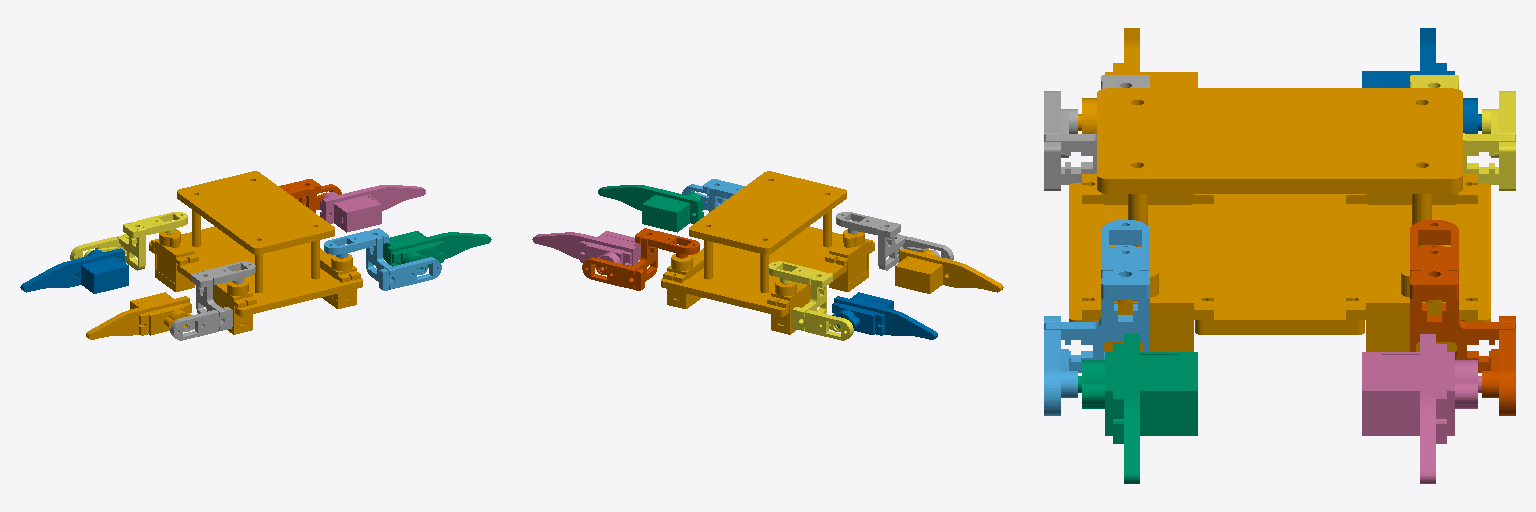
robot.urdf — Acebott_Spider_URDF:
<?xml version='1.0' encoding='utf-8'?>
<robot name="Acebott_Spider_URDF">
    <link name="Body">
        <inertial>
            <origin xyz="-0.09893936727834697 -0.09172392482990159 0.008946823496255288" rpy="0.0 0.0 0.0" />
            <mass value="0.08199535557972024" />
            <inertia ixx="9.49581199758884e-05" iyy="7.208979598154718e-05" izz="0.00012865767930647165" ixy="2.726693653851142e-12" iyz="8.124631609846e-15" ixz="8.776982504503372e-15" />
        </inertial>
        <visual name="Body_visual">
            <origin xyz="0.0 0.0 0.0" rpy="0.0 0.0 0.0" />
            <geometry>
                <mesh filename="meshes/Body.stl" scale="0.001 0.001 0.001" />
            </geometry>
        </visual>
        <collision name="Body_collision">
            <origin xyz="0.0 0.0 0.0" rpy="0.0 0.0 0.0" />
            <geometry>
                <mesh filename="meshes/Body.stl" scale="0.001 0.001 0.001" />
            </geometry>
        </collision>
    </link>
    <link name="Hip_HR">
        <inertial>
            <origin xyz="0.02125000270970605 0.0074247812089937425 0.0032419535209816308" rpy="0.0 -0.0 0.0" />
            <mass value="0.004533521000884564" />
            <inertia ixx="7.034457005123957e-07" iyy="1.1507372874024822e-06" izz="1.15058598772857e-06" ixy="-3.3173718877997107e-07" iyz="-2.51378505530601e-07" ixz="-3.320713292271822e-07" />
        </inertial>
        <visual name="Hip_HR_visual">
            <origin xyz="0.0653393700000001 -0.12967392 0.014191503999999758" rpy="-3.1415926535897913 -0.0 0.0" />
            <geometry>
                <mesh filename="meshes/Hip_HR.stl" scale="0.001 0.001 0.001" />
            </geometry>
        </visual>
        <collision name="Hip_HR_collision">
            <origin xyz="0.0653393700000001 -0.12967392 0.014191503999999758" rpy="-3.1415926535897913 -0.0 0.0" />
            <geometry>
                <mesh filename="meshes/Hip_HR.stl" scale="0.001 0.001 0.001" />
            </geometry>
        </collision>
    </link>
    <link name="Leg_HR">
        <inertial>
            <origin xyz="0.008736659310475159 -0.00034664721693226155 0.015624315795401848" rpy="0.0 -0.0 0.0" />
            <mass value="0.009713411899903171" />
            <inertia ixx="5.98223690582235e-07" iyy="1.976798624633082e-06" izz="1.630611419272467e-06" ixy="2.0516984113919095e-08" iyz="-8.162992944578415e-09" ixz="3.9205420868662616e-08" />
        </inertial>
        <visual name="Leg_HR_visual">
            <origin xyz="0.022839369999999443 0.003491503999999491 0.14135658" rpy="1.5707963267949 -0.0 0.0" />
            <geometry>
                <mesh filename="meshes/Leg_HR.stl" scale="0.001 0.001 0.001" />
            </geometry>
        </visual>
        <collision name="Leg_HR_collision">
            <origin xyz="0.022839369999999443 0.003491503999999491 0.14135658" rpy="1.5707963267949 -0.0 0.0" />
            <geometry>
                <mesh filename="meshes/Leg_HR.stl" scale="0.001 0.001 0.001" />
            </geometry>
        </collision>
    </link>
    <link name="Hip_VL">
        <inertial>
            <origin xyz="-0.021249997290224185 -0.0074247715270273585 0.0032419535209814066" rpy="0.0 -0.0 0.0" />
            <mass value="0.004533521000884648" />
            <inertia ixx="7.034457004552396e-07" iyy="1.1507372874747252e-06" izz="1.15058598786068e-06" ixy="-3.3173718877987646e-07" iyz="2.513785055304499e-07" ixz="3.320713292254234e-07" />
        </inertial>
        <visual name="Hip_VL_visual">
            <origin xyz="0.13253937000000002 -0.0537739199999998 0.014191504000000082" rpy="3.1415926535897922 -0.0 0.0" />
            <geometry>
                <mesh filename="meshes/Hip_VL.stl" scale="0.001 0.001 0.001" />
            </geometry>
        </visual>
        <collision name="Hip_VL_collision">
            <origin xyz="0.13253937000000002 -0.0537739199999998 0.014191504000000082" rpy="3.1415926535897922 -0.0 0.0" />
            <geometry>
                <mesh filename="meshes/Hip_VL.stl" scale="0.001 0.001 0.001" />
            </geometry>
        </collision>
    </link>
    <link name="Leg_VL">
        <inertial>
            <origin xyz="-0.008736653840611055 0.0003466472169322682 0.015624315430607601" rpy="0.0 -0.0 0.0" />
            <mass value="0.009713411899903254" />
            <inertia ixx="5.982236596912551e-07" iyy="1.9767986768641694e-06" izz="1.6306115023945891e-06" ixy="2.051698599421654e-08" iyz="8.162991201413366e-09" ixz="-3.920539899910423e-08" />
        </inertial>
        <visual name="Leg_VL_visual">
            <origin xyz="0.17503937000000122 -0.0034915040000001118 -0.042091269999999695" rpy="-1.5707963267948994 -0.0 0.0" />
            <geometry>
                <mesh filename="meshes/Leg_VL.stl" scale="0.001 0.001 0.001" />
            </geometry>
        </visual>
        <collision name="Leg_VL_collision">
            <origin xyz="0.17503937000000122 -0.0034915040000001118 -0.042091269999999695" rpy="-1.5707963267948994 -0.0 0.0" />
            <geometry>
                <mesh filename="meshes/Leg_VL.stl" scale="0.001 0.001 0.001" />
            </geometry>
        </collision>
    </link>
    <link name="Hip_VR">
        <inertial>
            <origin xyz="0.021264245482194515 -0.007424762173149944 0.003247422353883134" rpy="0.0 -0.0 0.0" />
            <mass value="0.004533497206662651" />
            <inertia ixx="7.037160970528777e-07" iyy="1.1510120554577788e-06" izz="1.1505860402810898e-06" ixy="3.31528390240217e-07" iyz="2.5147873424627667e-07" ixz="-3.3243970524026796e-07" />
        </inertial>
        <visual name="Hip_VR_visual">
            <origin xyz="0.06533937 -0.05377392000000002 0.014199999999999977" rpy="-3.1415926535897927 -0.0 0.0" />
            <geometry>
                <mesh filename="meshes/Hip_VR.stl" scale="0.001 0.001 0.001" />
            </geometry>
        </visual>
        <collision name="Hip_VR_collision">
            <origin xyz="0.06533937 -0.05377392000000002 0.014199999999999977" rpy="-3.1415926535897927 -0.0 0.0" />
            <geometry>
                <mesh filename="meshes/Hip_VR.stl" scale="0.001 0.001 0.001" />
            </geometry>
        </collision>
    </link>
    <link name="Leg_VR">
        <inertial>
            <origin xyz="0.008736659310472834 0.00034665509828700204 0.015624315430609173" rpy="0.0 -0.0 0.0" />
            <mass value="0.009713411899903397" />
            <inertia ixx="5.98223633553072e-07" iyy="1.9767985937420955e-06" izz="1.6306113931343143e-06" ixy="-2.0516677225808784e-08" iyz="8.163047333496193e-09" ixz="3.9205427273677146e-08" />
        </inertial>
        <visual name="Leg_VR_visual">
            <origin xyz="0.022839370000000553 -0.0034914999999996884 -0.04209127000000002" rpy="-1.5707963267948892 -0.0 0.0" />
            <geometry>
                <mesh filename="meshes/Leg_VR.stl" scale="0.001 0.001 0.001" />
            </geometry>
        </visual>
        <collision name="Leg_VR_collision">
            <origin xyz="0.022839370000000553 -0.0034914999999996884 -0.04209127000000002" rpy="-1.5707963267948892 -0.0 0.0" />
            <geometry>
                <mesh filename="meshes/Leg_VR.stl" scale="0.001 0.001 0.001" />
            </geometry>
        </collision>
    </link>
    <link name="Hip_HL">
        <inertial>
            <origin xyz="-0.021268485926847092 0.007424783870094043 0.0032474308446560273" rpy="0.0 -0.0 0.0" />
            <mass value="0.004533502365832292" />
            <inertia ixx="7.037170149500819e-07" iyy="1.1514694098579243e-06" izz="1.1510436407128049e-06" ixy="3.3172085519662725e-07" iyz="-2.514791406501123e-07" ixz="3.325833205591262e-07" />
        </inertial>
        <visual name="Hip_HL_visual">
            <origin xyz="0.13253937000000002 -0.12967392 0.014199999999999956" rpy="-3.141592653589793 -0.0 0.0" />
            <geometry>
                <mesh filename="meshes/Hip_HL.stl" scale="0.001 0.001 0.001" />
            </geometry>
        </visual>
        <collision name="Hip_HL_collision">
            <origin xyz="0.13253937000000002 -0.12967392 0.014199999999999956" rpy="-3.141592653589793 -0.0 0.0" />
            <geometry>
                <mesh filename="meshes/Hip_HL.stl" scale="0.001 0.001 0.001" />
            </geometry>
        </collision>
    </link>
    <link name="Leg_HL">
        <inertial>
            <origin xyz="-0.008736656485766013 -0.0003466550982874311 0.015624315795401831" rpy="0.0 -0.0 0.0" />
            <mass value="0.009713411899903402" />
            <inertia ixx="5.982236644441535e-07" iyy="1.976798707766209e-06" izz="1.6306114762672662e-06" ixy="-2.0516679106194272e-08" iyz="-8.163049076679687e-09" ixz="-3.92054824680009e-08" />
        </inertial>
        <visual name="Leg_HL_visual">
            <origin xyz="0.1750512399999999 0.0034914999999906718 0.14135658000000023" rpy="1.5707963267949625 -0.0 0.0" />
            <geometry>
                <mesh filename="meshes/Leg_HL.stl" scale="0.001 0.001 0.001" />
            </geometry>
        </visual>
        <collision name="Leg_HL_collision">
            <origin xyz="0.1750512399999999 0.0034914999999906718 0.14135658000000023" rpy="1.5707963267949625 -0.0 0.0" />
            <geometry>
                <mesh filename="meshes/Leg_HL.stl" scale="0.001 0.001 0.001" />
            </geometry>
        </collision>
    </link>
    <joint name="Body_Hip_HL" type="revolute">
        <origin xyz="-0.13253937000000002 -0.12967392 0.014199999999999999" rpy="3.141592653589793 -0.0 0.0" />
        <parent link="Body" />
        <child link="Hip_HL" />
        <axis xyz="0.0 -3.43908929112419e-16 1.0" />
        <limit lower="-0.872665" upper="0.872665" effort="1000000" velocity="1000000" />
    </joint>
    <joint name="Hip_HL_Leg_HL" type="revolute">
        <origin xyz="-0.04251186999999998 0.011682659999999992 0.010708500000000003" rpy="1.570796326794831 -0.0 0.0" />
        <parent link="Hip_HL" />
        <child link="Leg_HL" />
        <axis xyz="0.0 -6.59928123750708e-14 1.0" />
        <limit lower="-1.570796" upper="0.0" effort="1000000" velocity="1000000" />
    </joint>
    <joint name="Body_Hip_VL" type="revolute">
        <origin xyz="-0.13253937000000002 -0.05377392 0.014199999999999999" rpy="3.1415926535897927 -0.0 0.0" />
        <parent link="Body" />
        <child link="Hip_VL" />
        <axis xyz="-0.0 -4.21198963906871e-16 1.0" />
        <limit lower="-0.872665" upper="0.872665" effort="1000000" velocity="1000000" />
    </joint>
    <joint name="Hip_VL_Leg_VL" type="revolute">
        <origin xyz="-0.0425 -0.011682650000000017 0.010699999999999994" rpy="-1.5707963267948861 -0.0 0.0" />
        <parent link="Hip_VL" />
        <child link="Leg_VL" />
        <axis xyz="-0.0 1.007645192987434e-14 1.0" />
        <limit lower="-0.0" upper="1.570796" effort="1000000" velocity="1000000" />
    </joint>
    <joint name="Body_Hip_VR" type="revolute">
        <origin xyz="-0.06533937 -0.05377392 0.014199999999999999" rpy="3.1415926535897927 -0.0 0.0" />
        <parent link="Body" />
        <child link="Hip_VR" />
        <axis xyz="-0.0 -4.06769447268998e-16 1.0" />
        <limit lower="-0.872665" upper="0.872665" effort="1000000" velocity="1000000" />
    </joint>
    <joint name="Hip_VR_Leg_VR" type="revolute">
        <origin xyz="0.0425 -0.011682650000000017 0.010708499999999994" rpy="-1.5707963267949037 -0.0 0.0" />
        <parent link="Hip_VR" />
        <child link="Leg_VR" />
        <axis xyz="0.0 -7.41533677581482e-15 1.0" />
        <limit lower="-1.570796" upper="0.0" effort="1000000" velocity="1000000" />
    </joint>
    <joint name="Body_Hip_HR" type="revolute">
        <origin xyz="-0.06533937 -0.12967392 0.014199999999999999" rpy="3.141592653589793 -0.0 0.0" />
        <parent link="Body" />
        <child link="Hip_HR" />
        <axis xyz="0.0 -3.43908929112402e-16 1.0" />
        <limit lower="-0.872665" upper="0.872665" effort="1000000" velocity="1000000" />
    </joint>
    <joint name="Hip_HR_Leg_HR" type="revolute">
        <origin xyz="0.0425 0.011682659999999992 0.010700000000000003" rpy="1.5707963267948861 -0.0 0.0" />
        <parent link="Hip_HR" />
        <child link="Leg_HR" />
        <axis xyz="0.0 -1.0841559822893527e-14 1.0" />
        <limit lower="0.0" upper="1.570796" effort="1000000" velocity="1000000" />
    </joint>
</robot>

--- What the picture shows (computed from the rendered views, not written in the file) ---
3 views of the same robot in one strip: view 1: azimuth 30°, elevation 25°; view 2: azimuth 150°, elevation 25°; view 3: azimuth 270°, elevation 25° (orthographic).
Model Acebott_Spider_URDF with 9 links and 8 joints (8 revolute), rooted at Body, posed every joint at zero.
Visible links, largest first — view 1: Body, Leg_VL, Hip_HR, Leg_VR, Hip_HL, Leg_HL, Leg_HR, Hip_VL, Hip_VR; view 2: Body, Leg_HL, Hip_VR, Leg_HR, Hip_VL, Leg_VL, Leg_VR, Hip_HL, Hip_HR; view 3: Body, Leg_HR, Leg_VR, Hip_HR, Hip_VR, Hip_HL, Hip_VL, Leg_VL, Leg_HL.
Boxes of the visible links, box(x1,y1,x2,y2) form: Body: box(149, 171, 362, 334); Leg_VL: box(20, 248, 128, 293); Hip_HR: box(324, 228, 441, 290); Leg_VR: box(320, 185, 425, 232); Hip_HL: box(170, 261, 255, 340); Leg_HL: box(86, 292, 191, 339); Leg_HR: box(383, 231, 491, 269); Hip_VL: box(70, 212, 187, 270); Hip_VR: box(279, 179, 341, 212); Body: box(661, 171, 874, 334); Leg_HL: box(895, 248, 1003, 293); Hip_VR: box(582, 228, 699, 290); Leg_HR: box(598, 185, 703, 232); Hip_VL: box(768, 261, 853, 340); Leg_VL: box(832, 292, 937, 339); Leg_VR: box(532, 231, 640, 269); Hip_HL: box(836, 212, 953, 270); Hip_HR: box(682, 179, 744, 212); Body: box(1069, 88, 1490, 351); Leg_HR: box(1078, 334, 1197, 483); Leg_VR: box(1362, 334, 1481, 483); Hip_HR: box(1044, 220, 1149, 415); Hip_VR: box(1410, 220, 1515, 415); Hip_HL: box(1044, 75, 1149, 190); Hip_VL: box(1410, 75, 1515, 190); Leg_VL: box(1362, 28, 1481, 133); Leg_HL: box(1078, 28, 1197, 133).
Size in the robot's own frame: 0.2599 by 0.1159 by 0.0503 metres.
Meshes: 9 distinct files referenced, 9 mesh visuals loaded (9 binary STL).